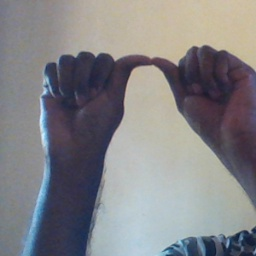A: (40, 45, 256, 163)
